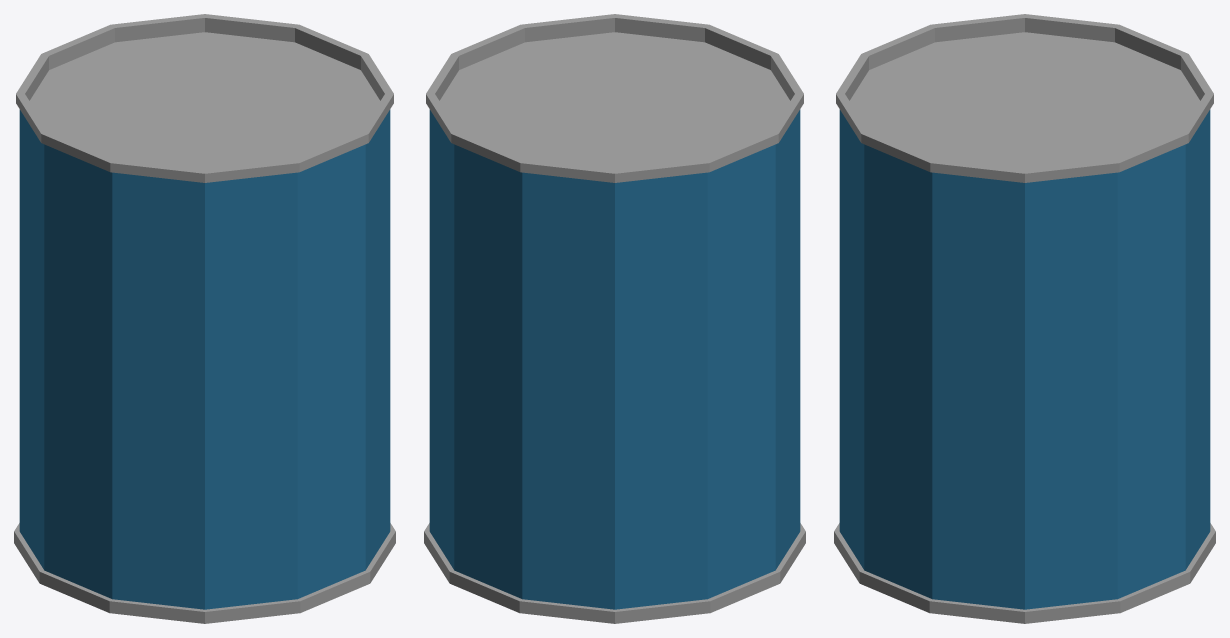
Rendered from Canned_Water_vc.fbx.
3 views of the same model, side by side, from view 1: azimuth 30°, elevation 25°; view 2: azimuth 150°, elevation 25°; view 3: azimuth 270°, elevation 25° (orthographic).
Visible parts, largest first — view 1: Canned_Water_vc; view 2: Canned_Water_vc; view 3: Canned_Water_vc.
Part boxes in pixels (bbox=[...]): Canned_Water_vc: bbox=[14, 14, 395, 623]; Canned_Water_vc: bbox=[424, 14, 805, 623]; Canned_Water_vc: bbox=[834, 14, 1215, 623].
Size of the model in its own units: 8 by 10.4 by 8.
